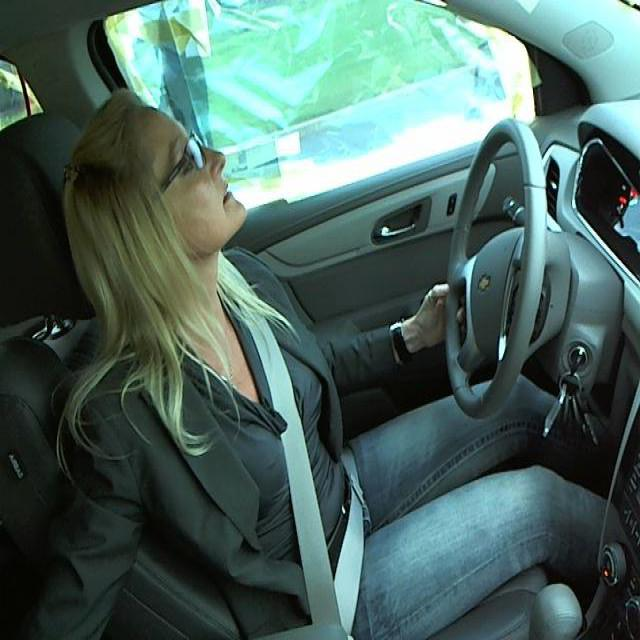seatbelt: (231, 276, 375, 596)
